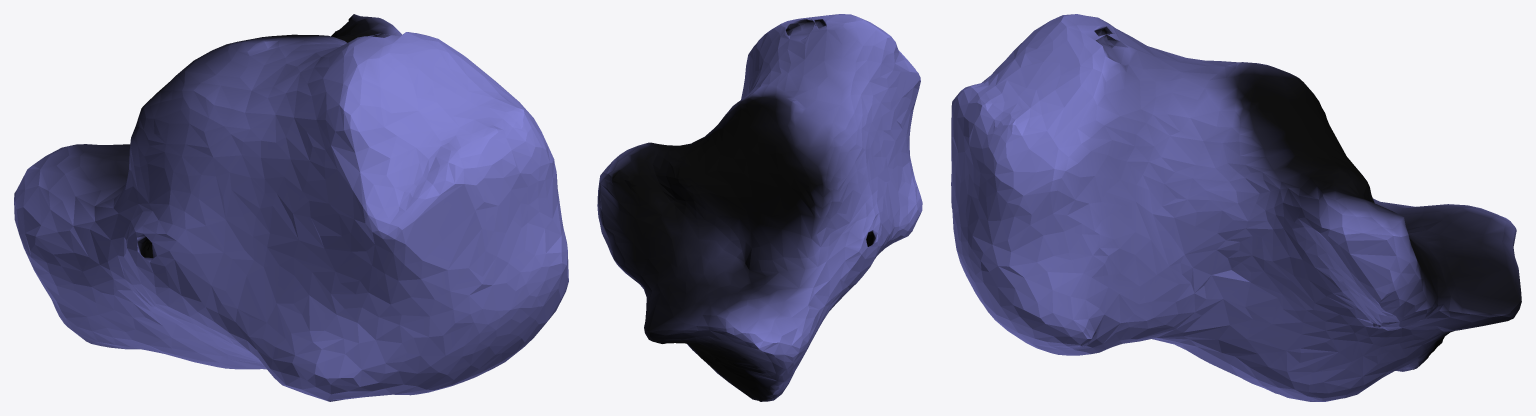
Rendered from Geometry3_lao.dae.
3 views of the same model, side by side, from view 1: azimuth 30°, elevation 25°; view 2: azimuth 150°, elevation 25°; view 3: azimuth 270°, elevation 25° (orthographic). The views are drawn at different scales.
Parts seen in each view (by area): view 1: node; view 2: node; view 3: node.
Part boxes in pixels (bbox=[...]): node: bbox=[14, 14, 568, 401]; node: bbox=[597, 14, 922, 401]; node: bbox=[951, 14, 1521, 401].
Size of the model in its own units: 44.17 by 54.24 by 75.4.
